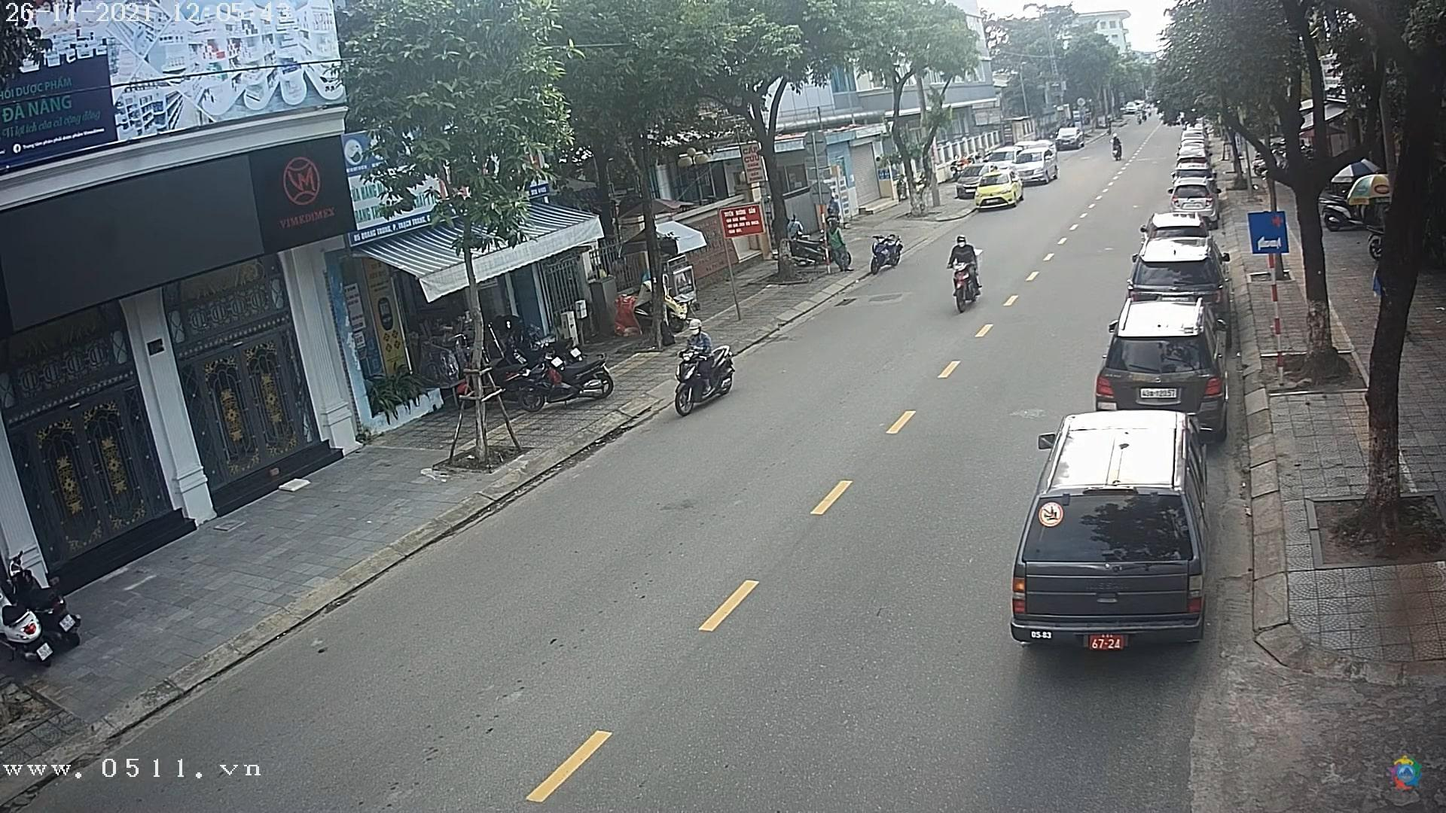car: (1013, 413, 1207, 649), (1097, 297, 1228, 428), (1129, 237, 1230, 304), (1056, 124, 1086, 149)
motorbike: (673, 345, 736, 423), (952, 266, 984, 312)
